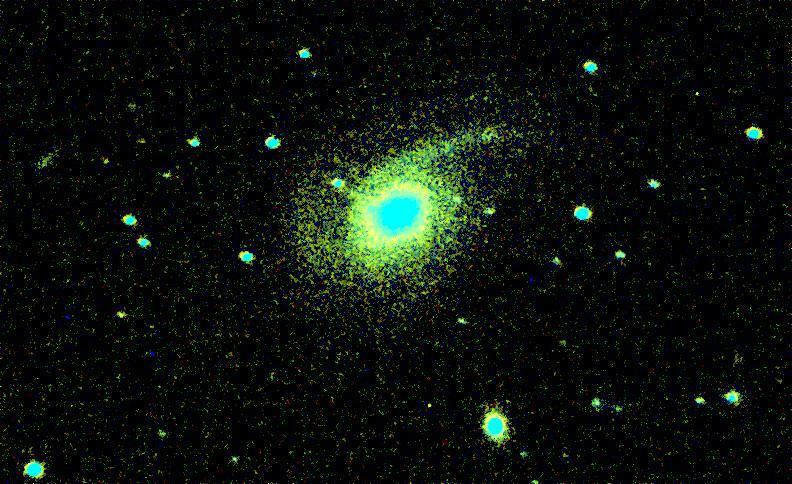star: (92, 149, 122, 179)
